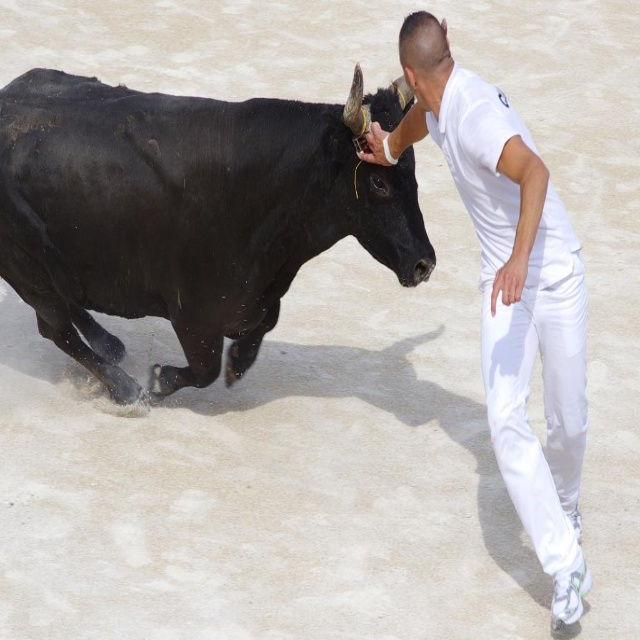Cattle: (0, 18, 447, 414)
